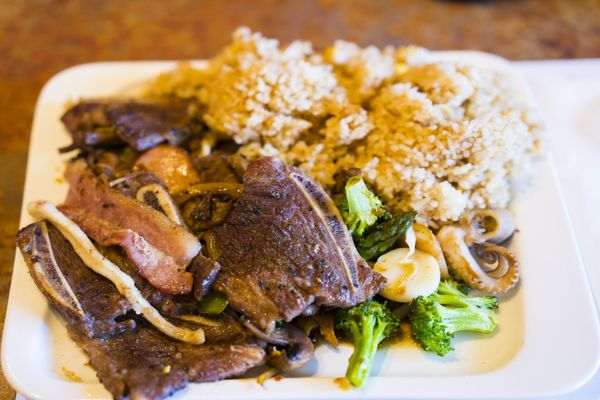curry: (408, 282, 500, 356), (338, 175, 415, 263), (334, 297, 401, 387)
